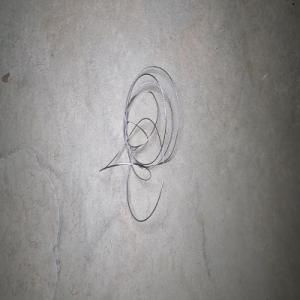Wire: (99, 65, 179, 221)
